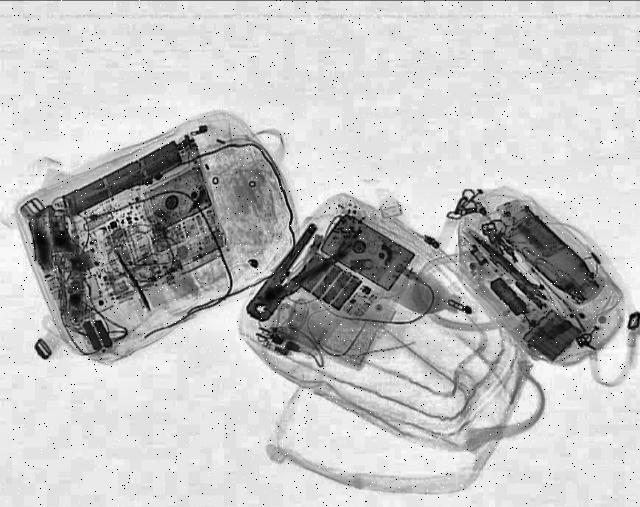Pliers: (230, 222, 354, 328)
